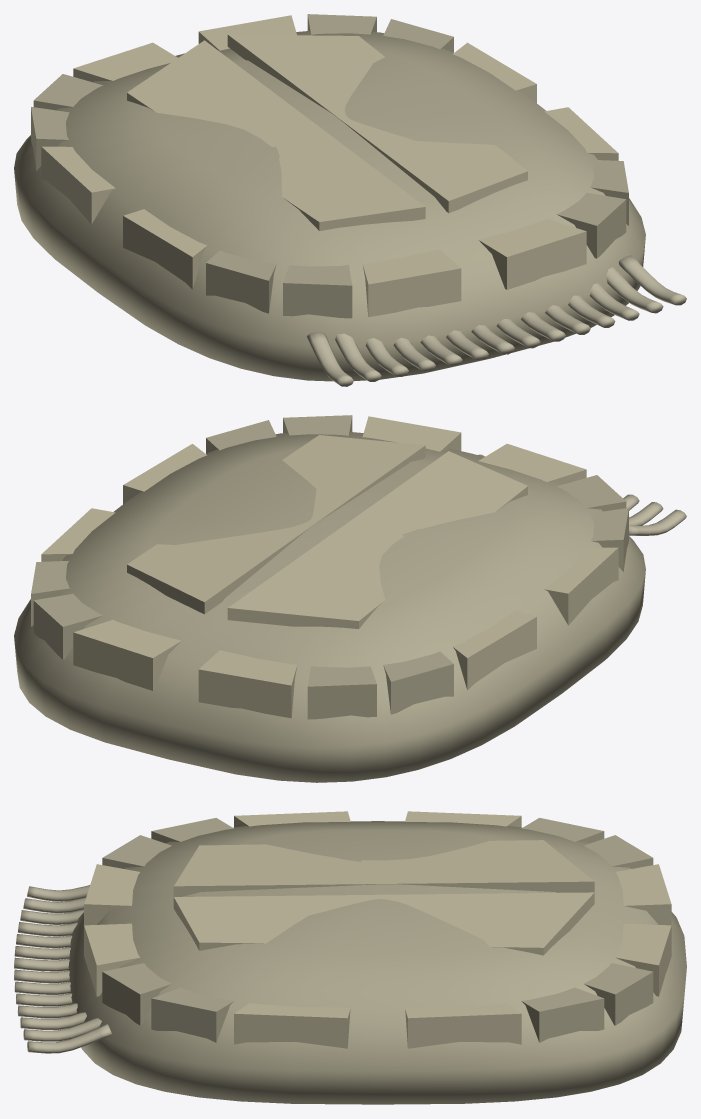
File: ctenocystis.glb
3 renders of one model, top to bottom at view 1: azimuth 30°, elevation 25°; view 2: azimuth 150°, elevation 25°; view 3: azimuth 270°, elevation 25°, orthographic. The views are drawn at different scales.
Visible parts, largest first — view 1: original-low-bilateral-rounded-theca-not-boot-or-crab, paired-marginal-plate-frame-and-broad-dorsal-fields, anterior-ctenidium-blade-like-comb-plates; view 2: original-low-bilateral-rounded-theca-not-boot-or-crab, paired-marginal-plate-frame-and-broad-dorsal-fields, anterior-ctenidium-blade-like-comb-plates; view 3: original-low-bilateral-rounded-theca-not-boot-or-crab, paired-marginal-plate-frame-and-broad-dorsal-fields, anterior-ctenidium-blade-like-comb-plates.
Part boxes in pixels (x1=…): original-low-bilateral-rounded-theca-not-boot-or-crab: x1=14, y1=31, x2=645, y2=381; paired-marginal-plate-frame-and-broad-dorsal-fields: x1=31, y1=14, x2=628, y2=318; anterior-ctenidium-blade-like-comb-plates: x1=306, y1=255, x2=686, y2=386; original-low-bilateral-rounded-theca-not-boot-or-crab: x1=14, y1=432, x2=645, y2=782; paired-marginal-plate-frame-and-broad-dorsal-fields: x1=31, y1=415, x2=628, y2=719; anterior-ctenidium-blade-like-comb-plates: x1=478, y1=454, x2=686, y2=535; original-low-bilateral-rounded-theca-not-boot-or-crab: x1=68, y1=821, x2=686, y2=1104; paired-marginal-plate-frame-and-broad-dorsal-fields: x1=84, y1=811, x2=671, y2=1048; anterior-ctenidium-blade-like-comb-plates: x1=14, y1=885, x2=112, y2=1053.
Bounding box in the file's own units: 0.0421 × 0.0103 × 0.055.
